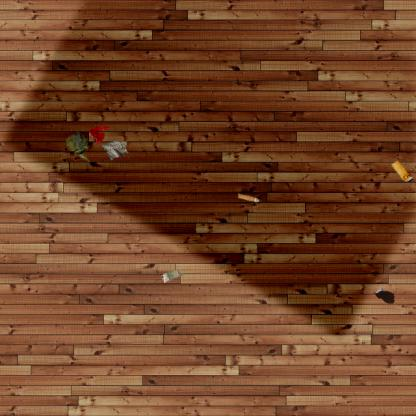dirty: (64, 129, 92, 162), (100, 139, 130, 162), (391, 158, 415, 184), (160, 267, 184, 285), (236, 192, 260, 204)
liquid: (88, 125, 110, 145), (374, 287, 396, 305)
